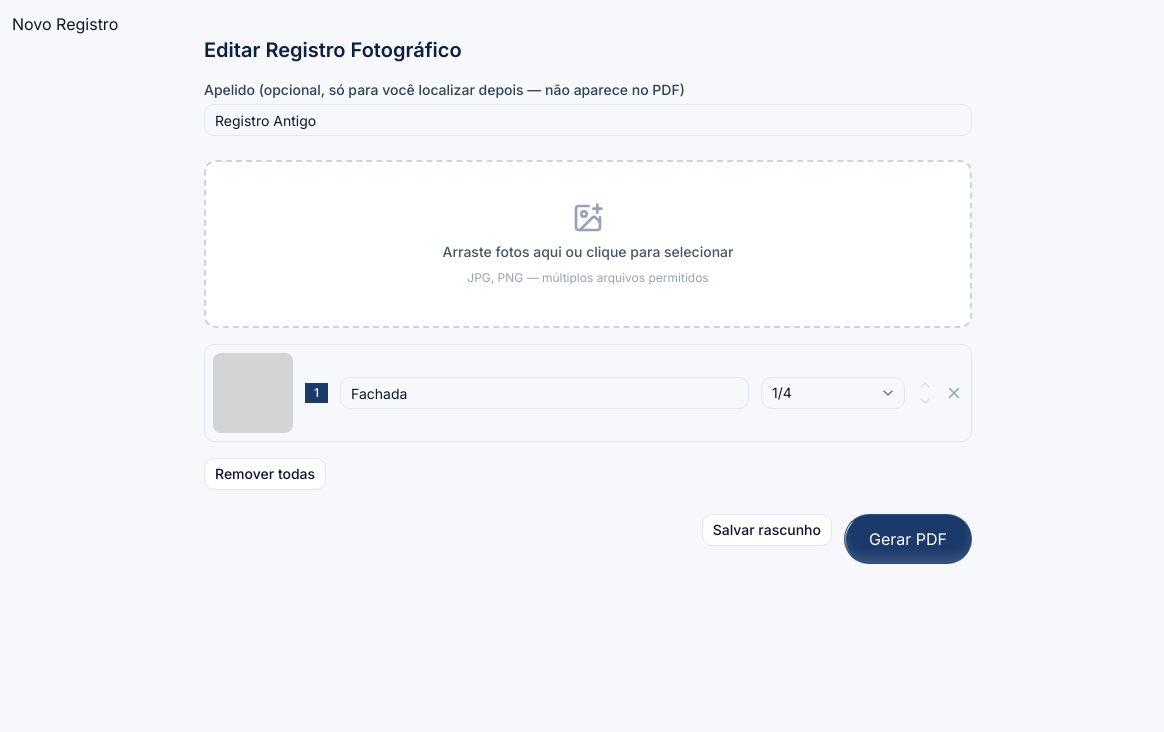
NewLaudo › still generates and downloads the PDF when saving to history fails on a full storage quota
This screenshot has width=1164, height=732.
Click the button "Gerar PDF": (908, 539) [844,514,972,564]
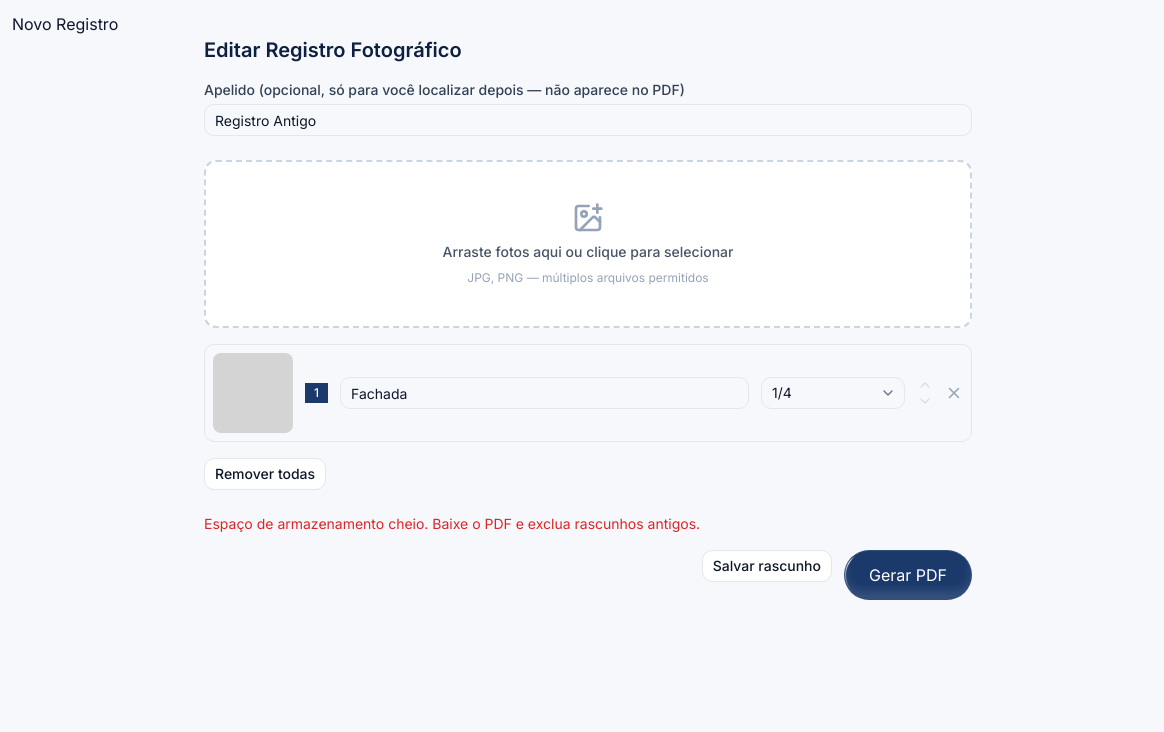
Now the text "Espaço de armazenamento cheio. Baixe o PDF e exclua rascunhos antigos." is shown, box [204,515,700,532]
